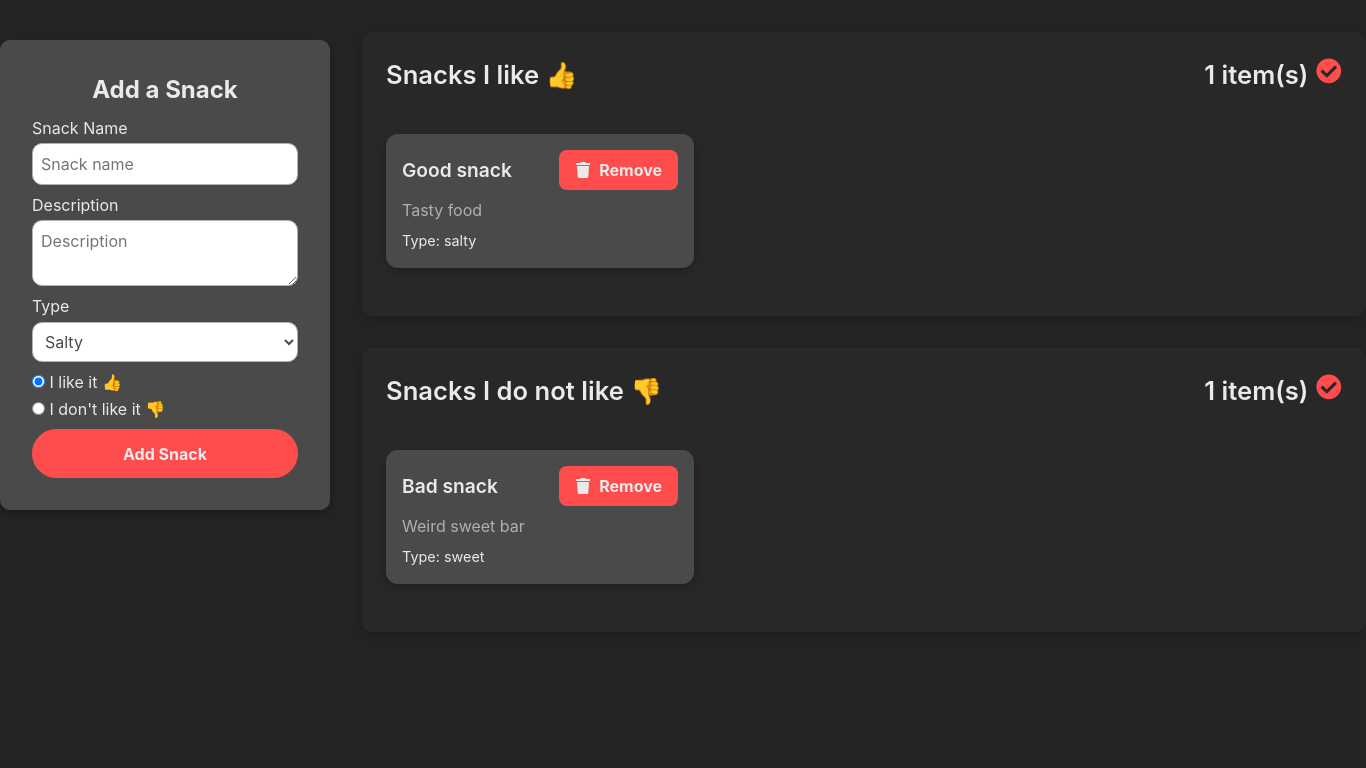
Test case: SnackManager › When user is logged in › When removing a snack › removes a liked snack correctly
The width and height of the screenshot is (1366, 768).
2. Action
What coordinates should you click on to do the following:
click the button "Remove" next to "Good snack"
I would click on:
 (619, 170)
Its box is [559,150,678,190].
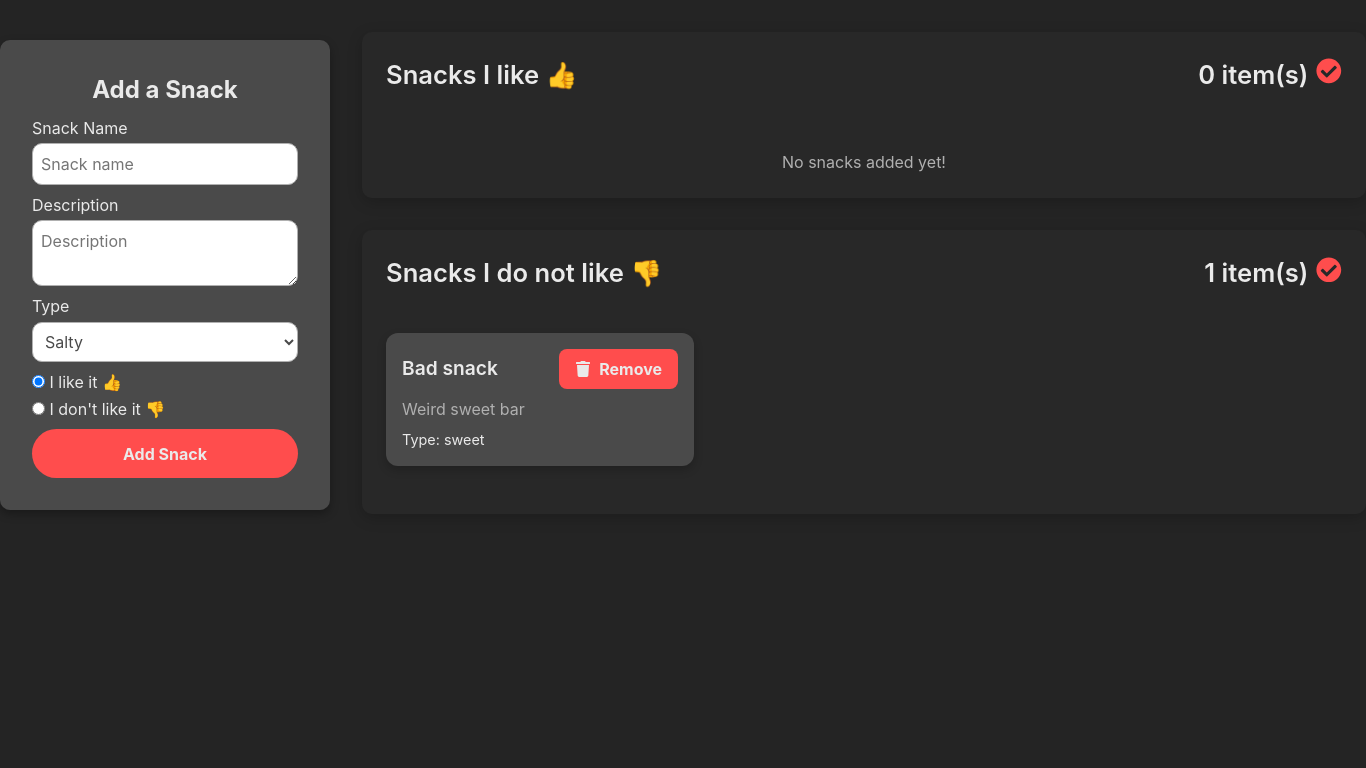
expect the heading "Good snack" is gone: met
